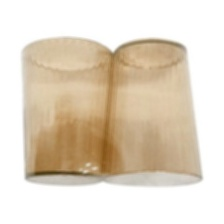glass: (99, 30, 207, 191), (13, 32, 120, 193)
